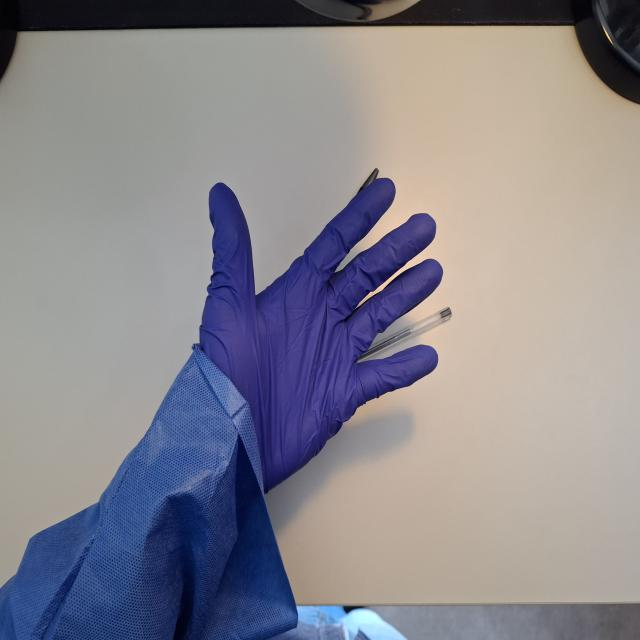glove_on: (193, 175, 445, 503)
